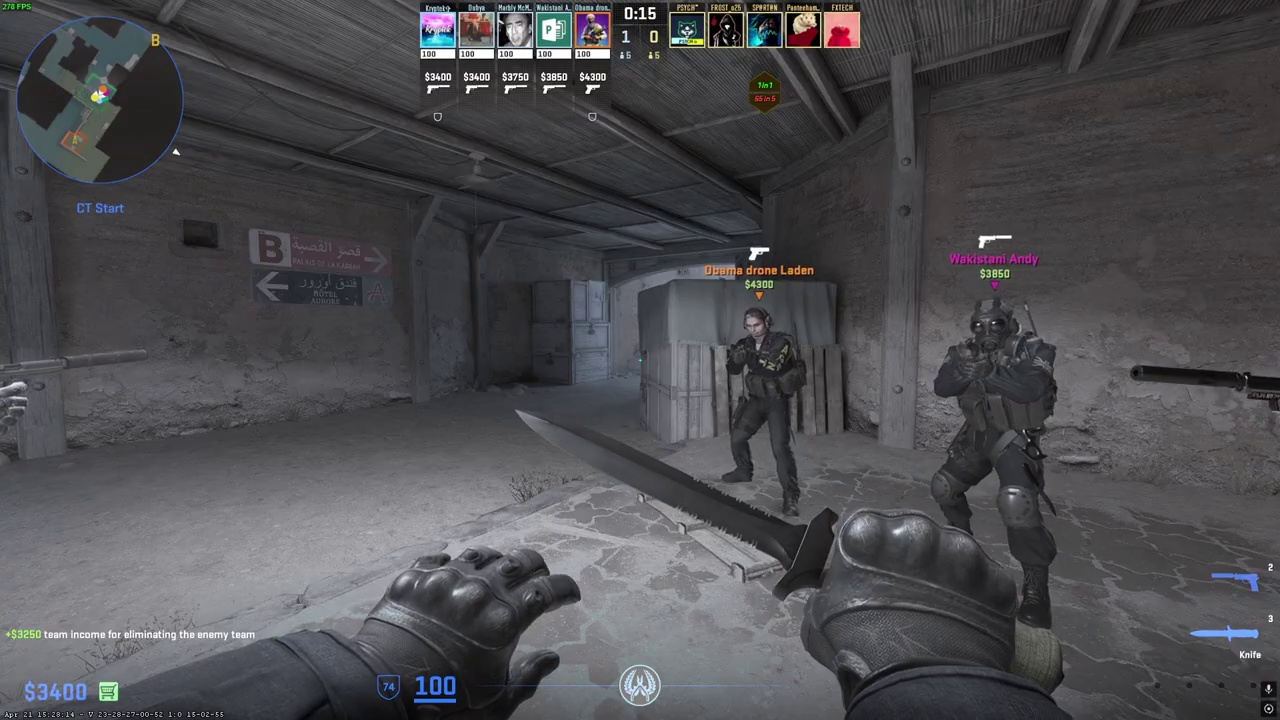CT: (931, 300, 1058, 620), (722, 306, 806, 515)
